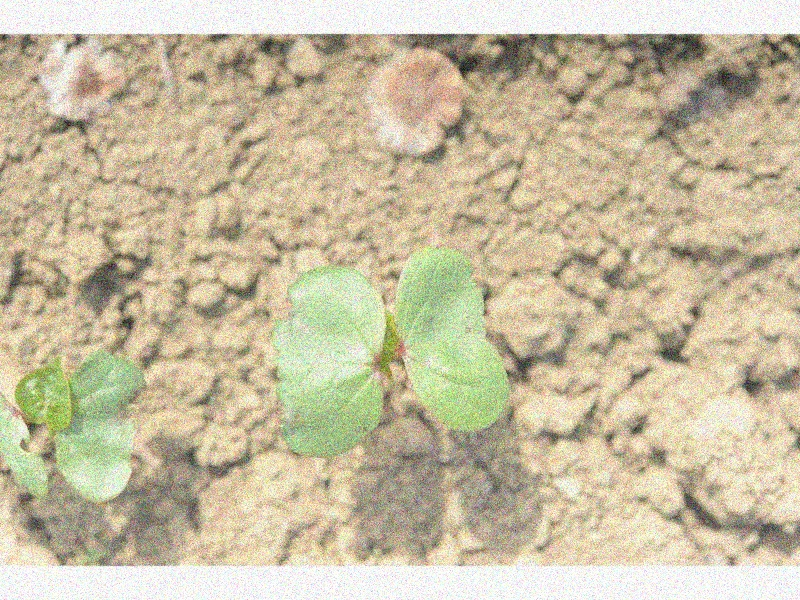cotton: (272, 242, 510, 459), (2, 347, 148, 507)
